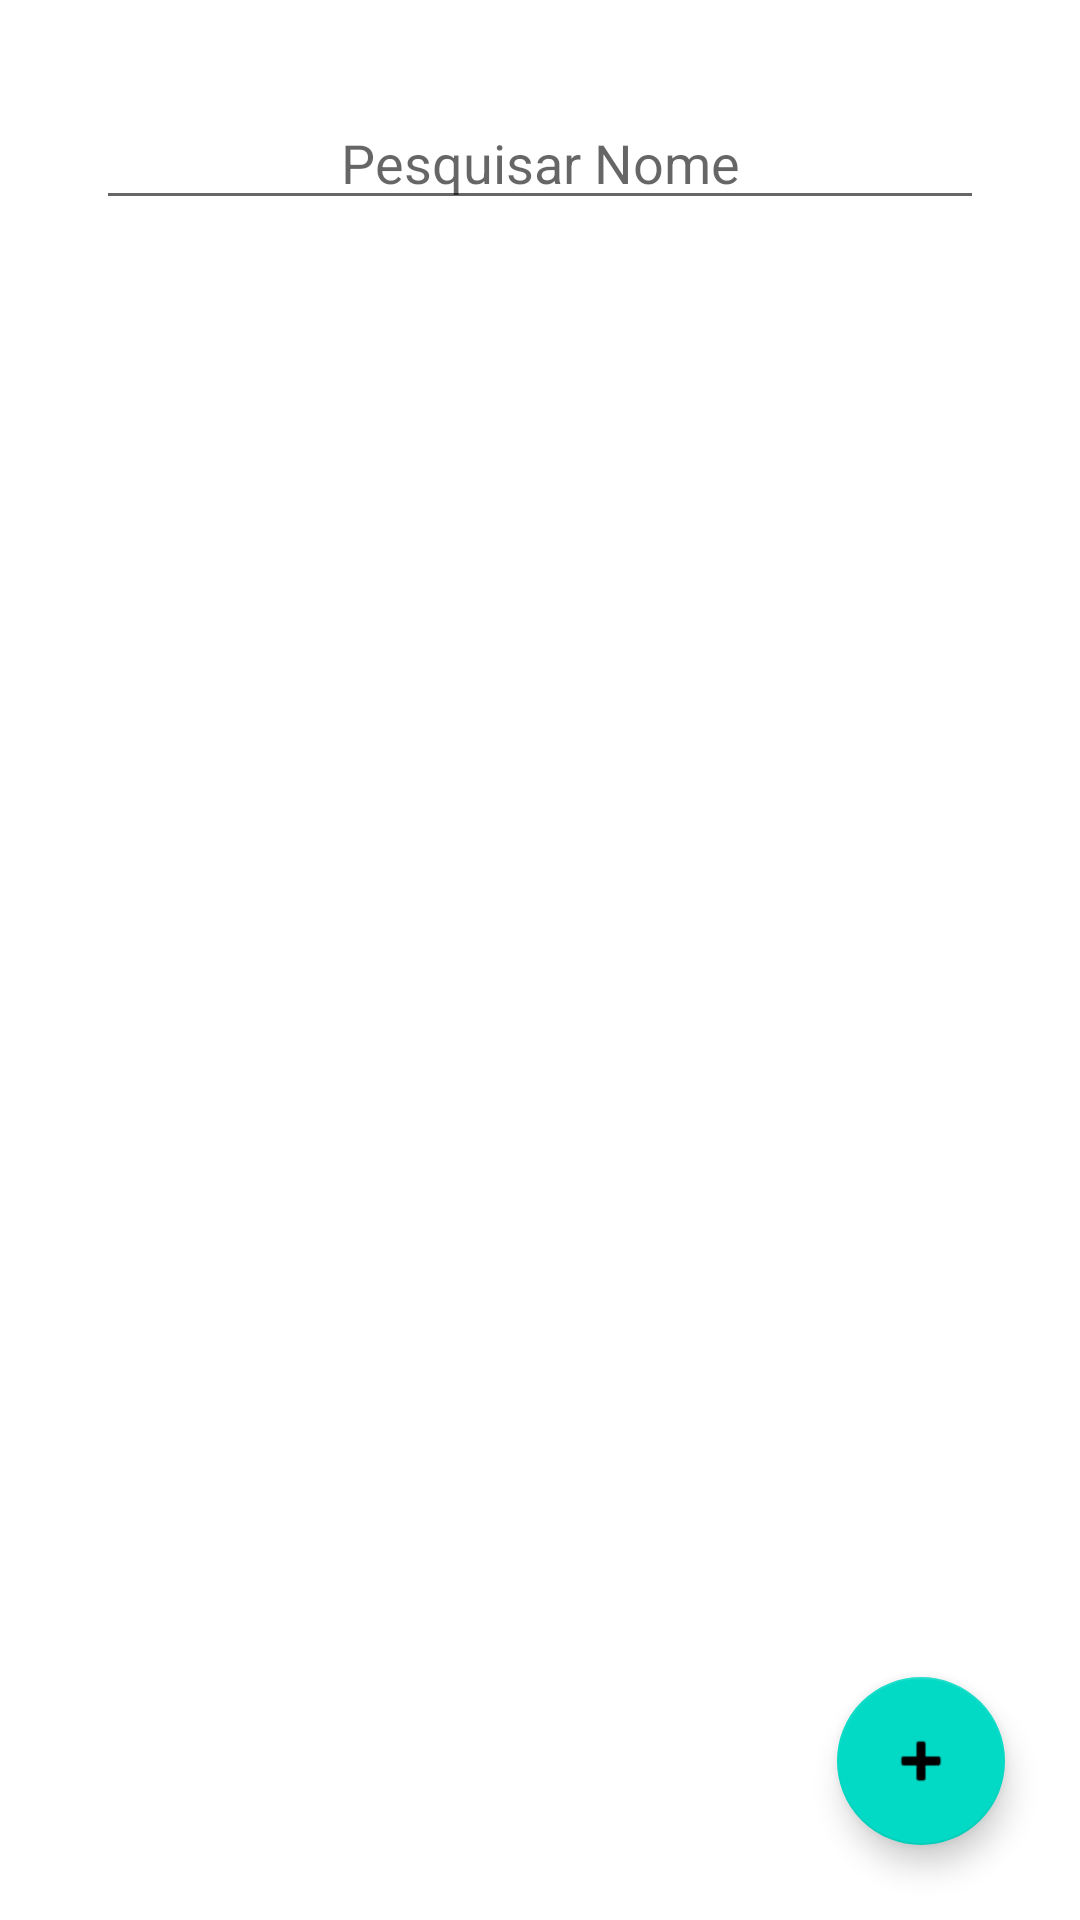

Named icons in this screenshot (1080w x 1920h) and their bounding boxes, bbox=(x1, y1, x2, y2):
add: bbox=(837, 1677, 1005, 1845)
